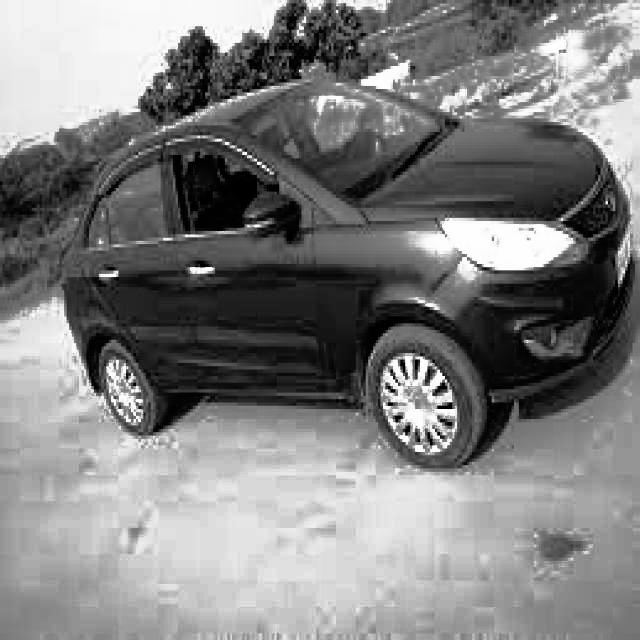Car: (51, 75, 639, 448)
